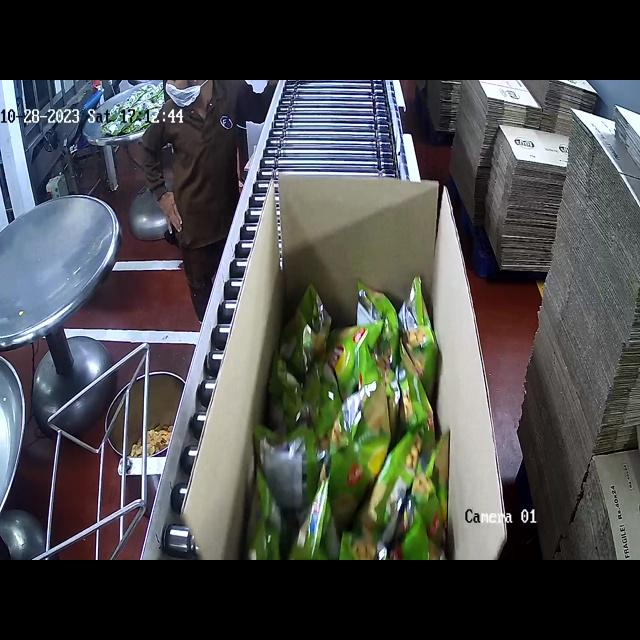yogurt: (249, 274, 449, 558)
